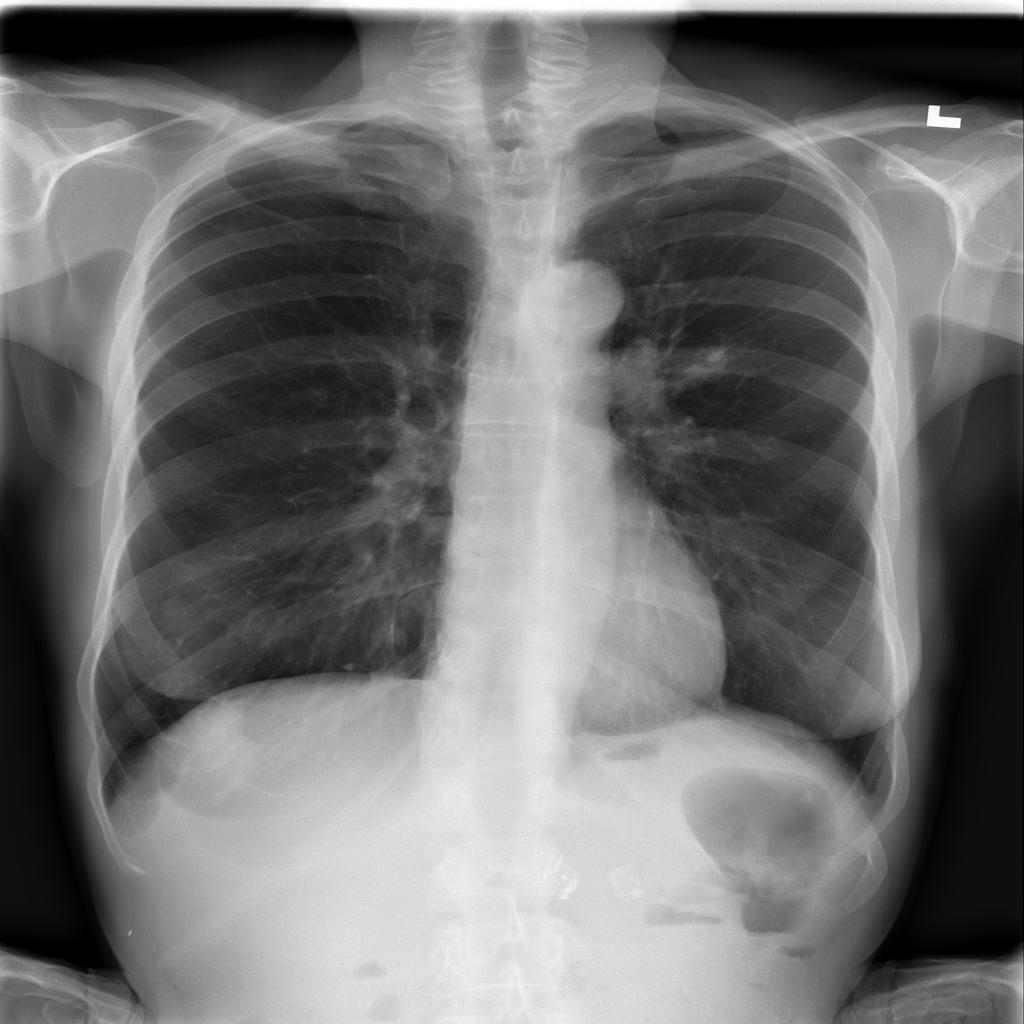nodule: (151, 699, 284, 807), (673, 326, 752, 391)
